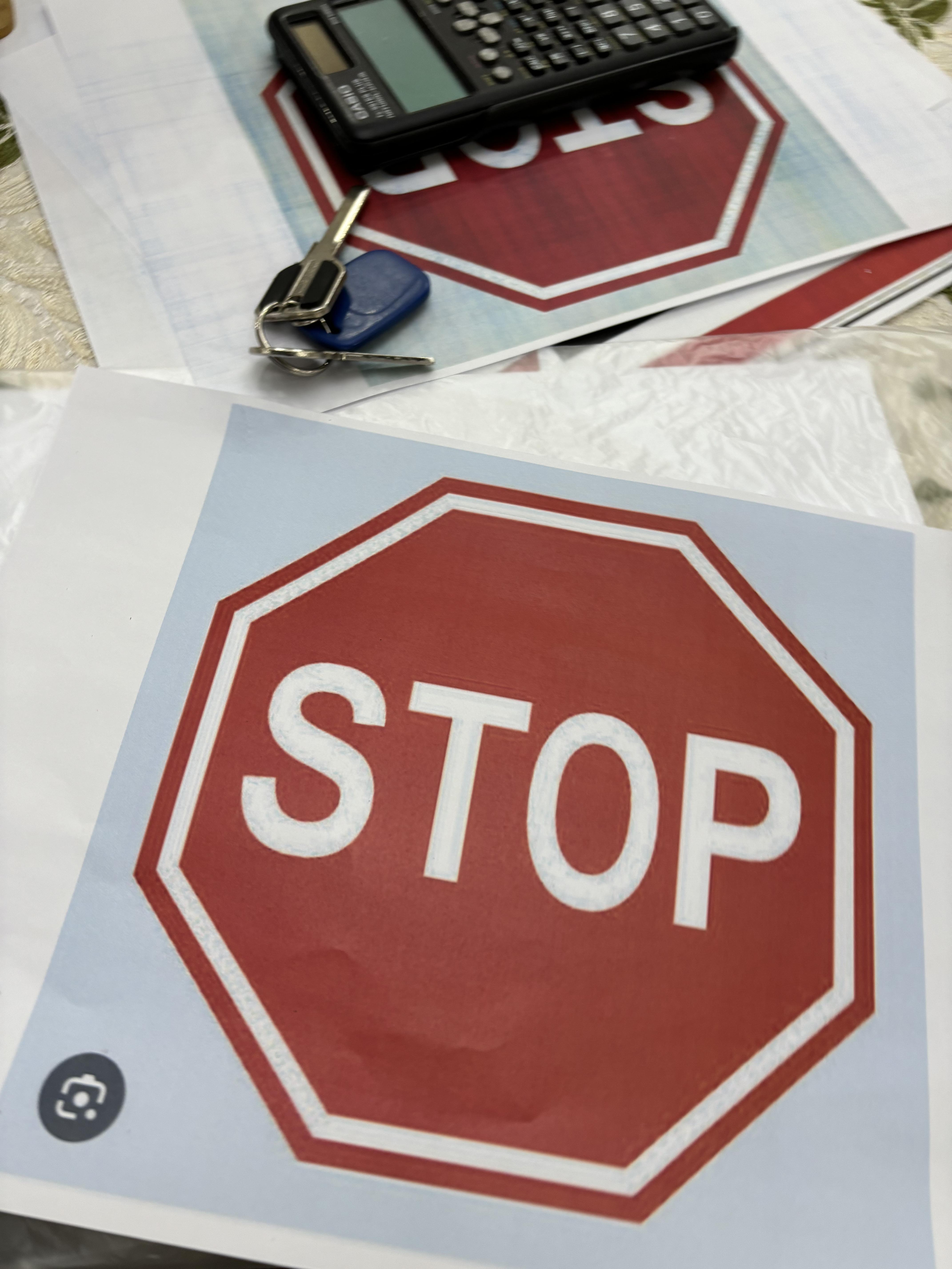Stop: (118, 471, 905, 1229)
